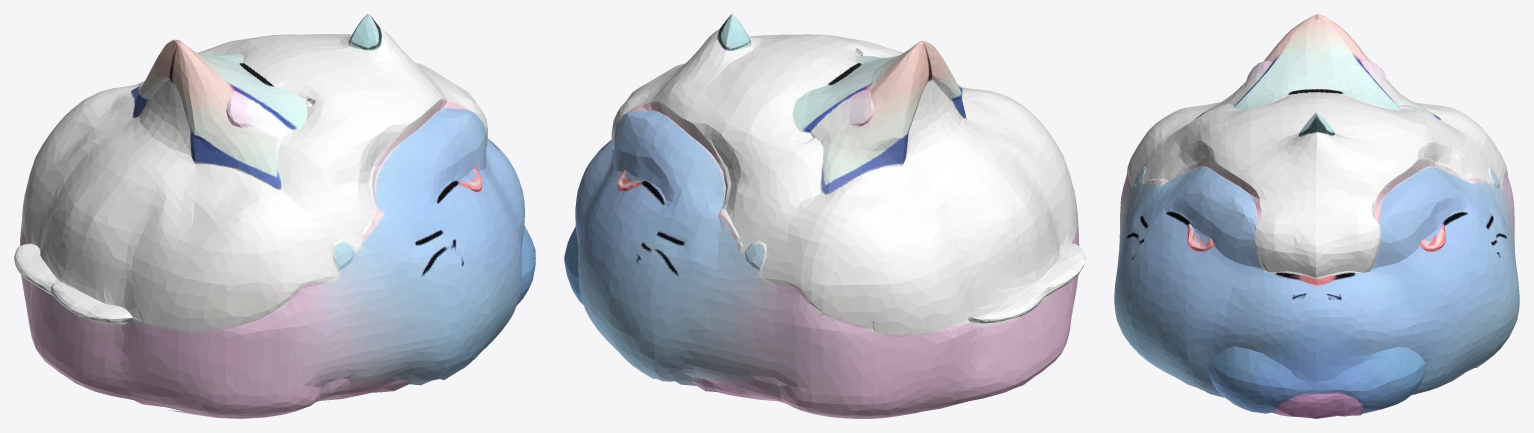
The model's file is pet_pk_snorlax.glb.
The picture shows the model from 3 angles, left to right: view 1: azimuth 30°, elevation 25°; view 2: azimuth 150°, elevation 25°; view 3: azimuth 270°, elevation 25°; orthographic projection. The views are drawn at different scales.
Parts seen in each view (by area): view 1: geometry_0; view 2: geometry_0; view 3: geometry_0.
Boxes of the visible parts, x1,y1,x2,y2 form: geometry_0: [14, 14, 535, 418]; geometry_0: [564, 14, 1085, 418]; geometry_0: [1114, 14, 1519, 418].
Bounding box in the file's own units: 1.91 × 1.2 × 1.64.
Materials: 1 (1 with a texture image).
